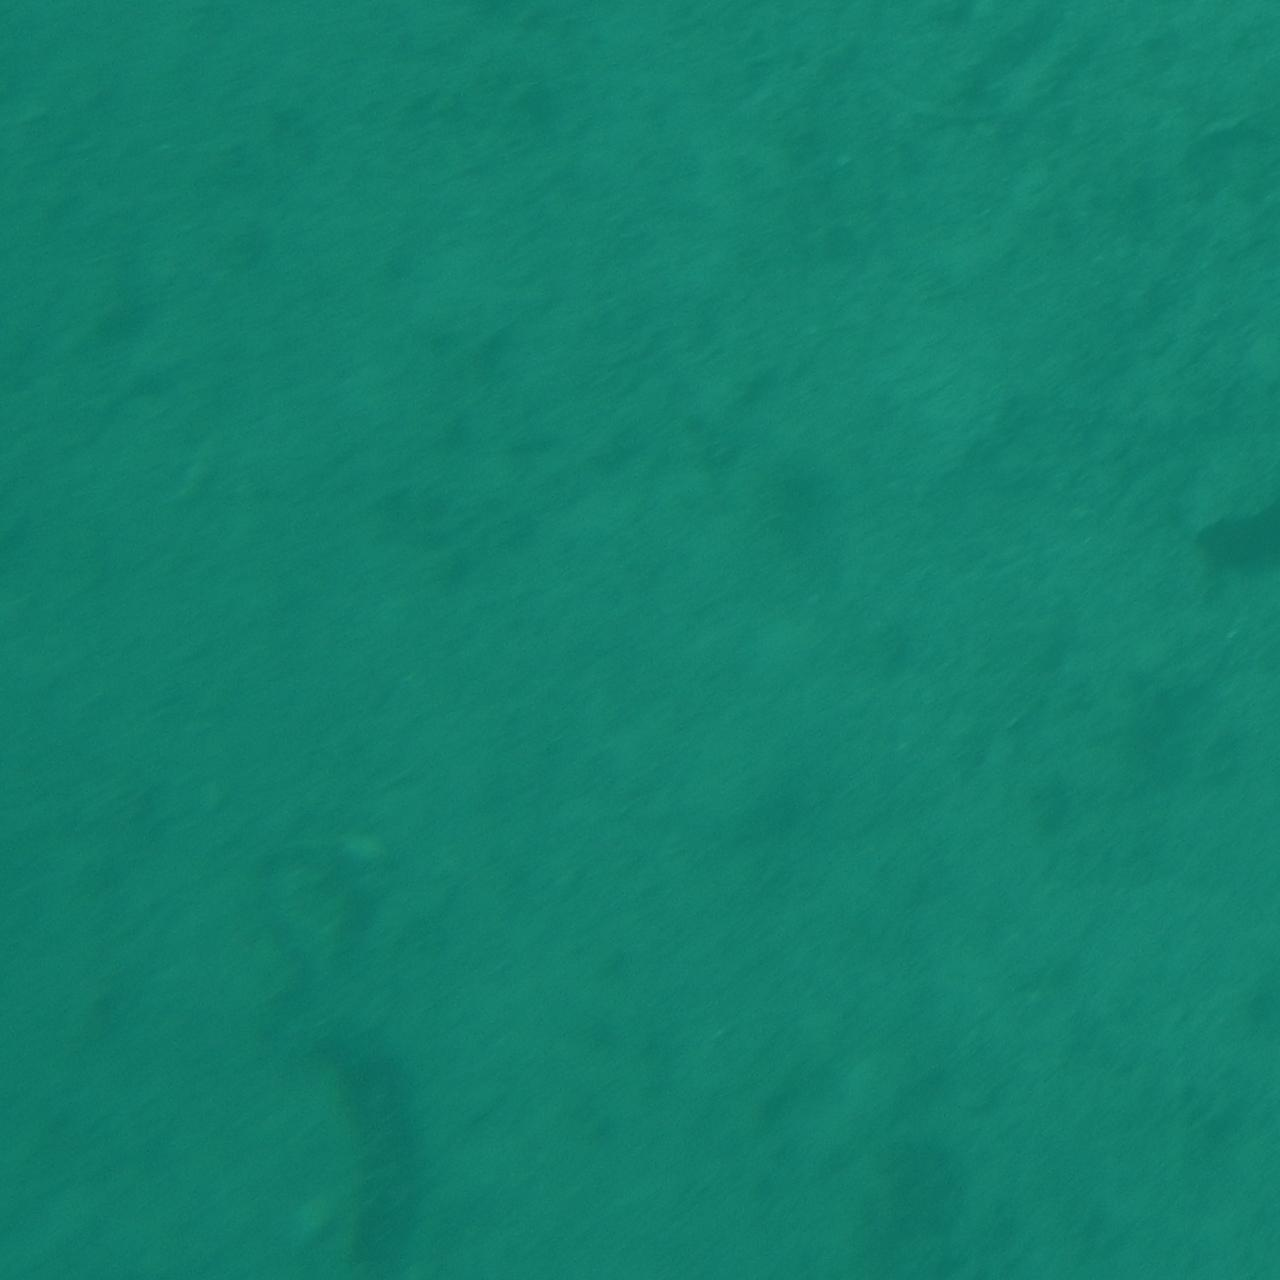Holothuria tubulosa: (264, 998, 434, 1279)
